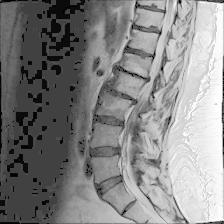disc: (92, 174, 128, 198), (92, 110, 127, 132), (122, 44, 160, 63), (88, 142, 123, 162), (129, 20, 164, 38), (134, 0, 168, 16)
hdisc: (102, 85, 145, 106), (113, 64, 154, 86)
